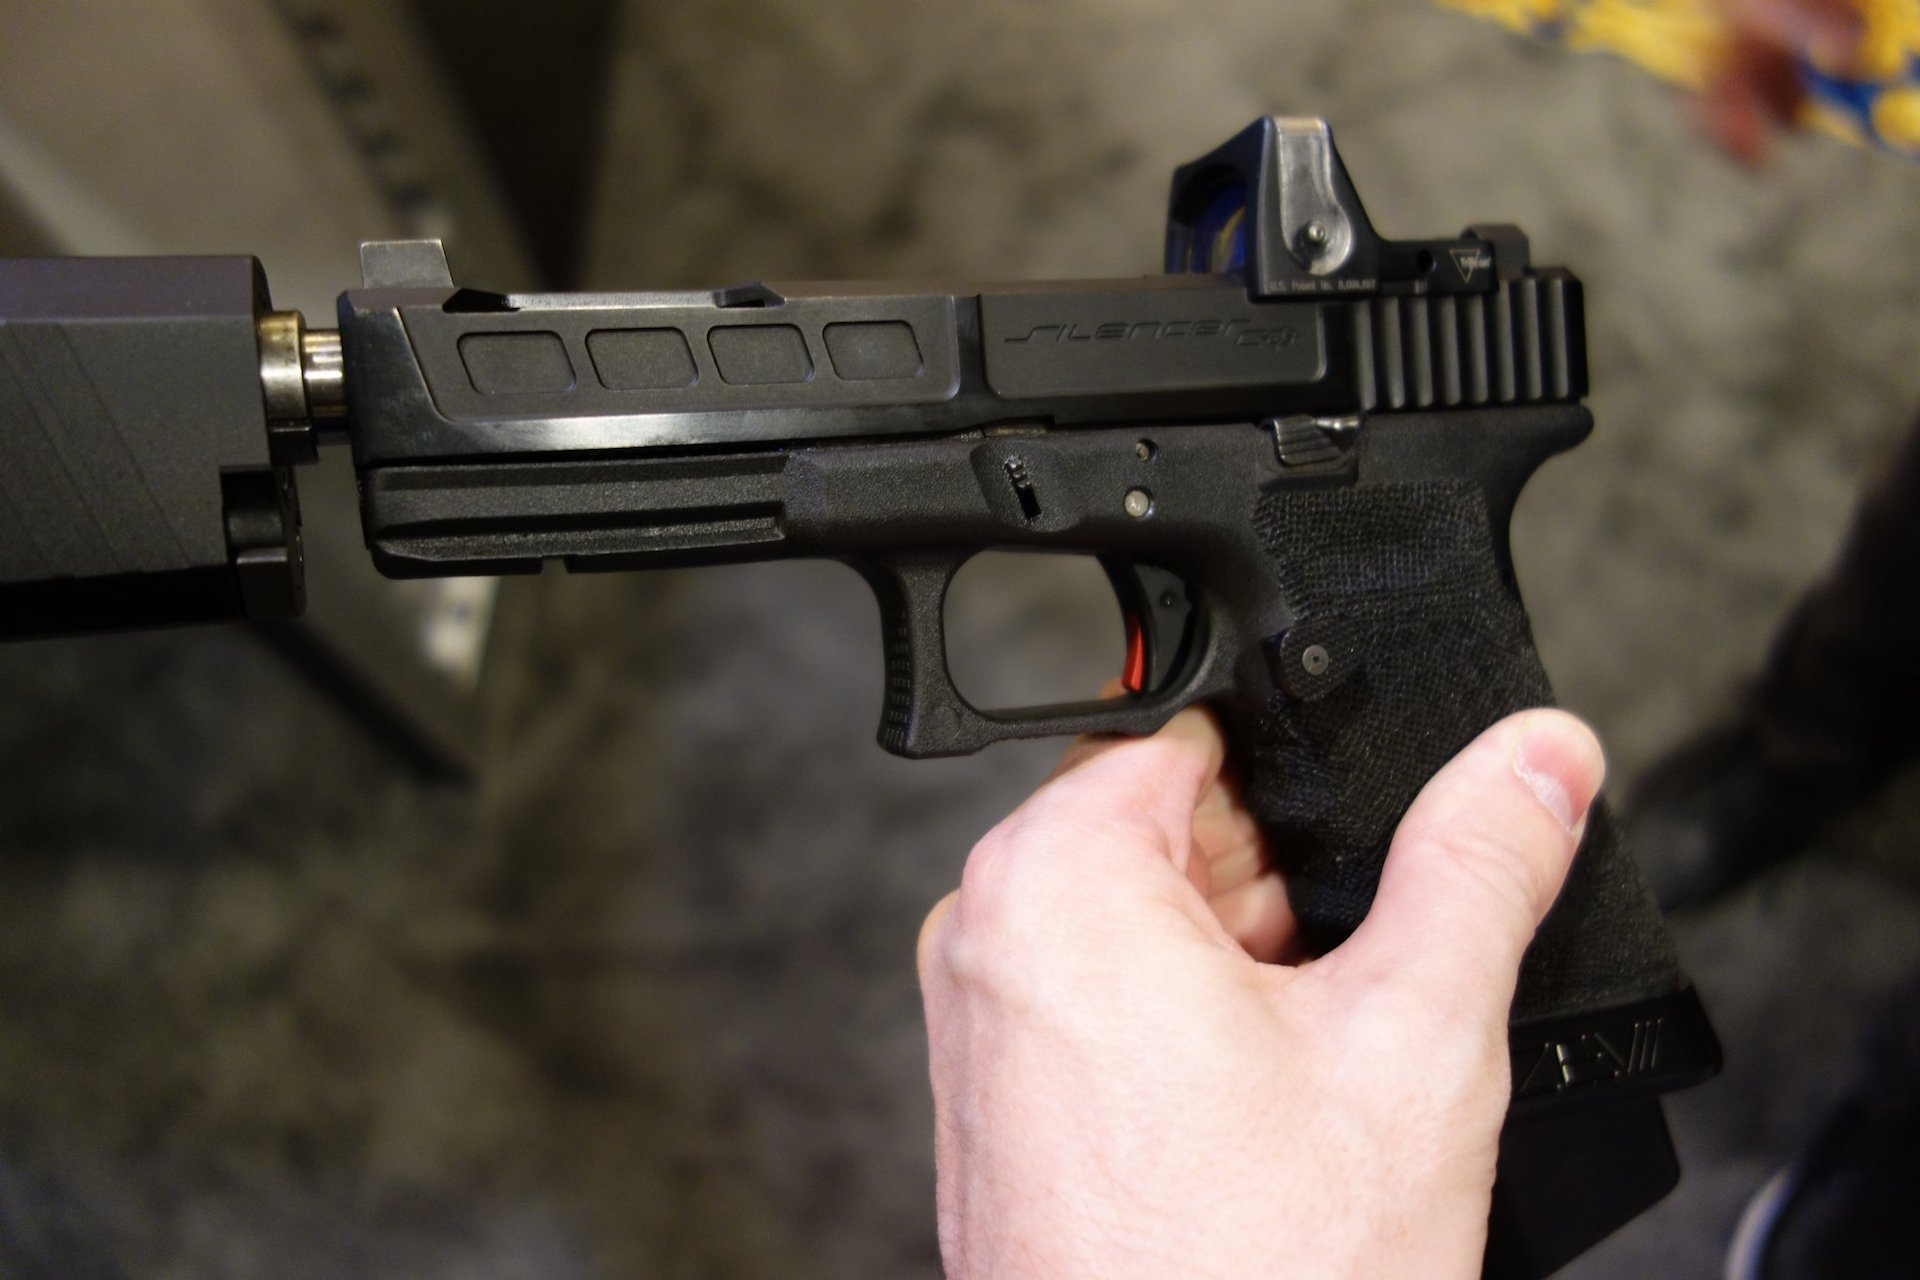pistol: (334, 113, 1733, 1104)
